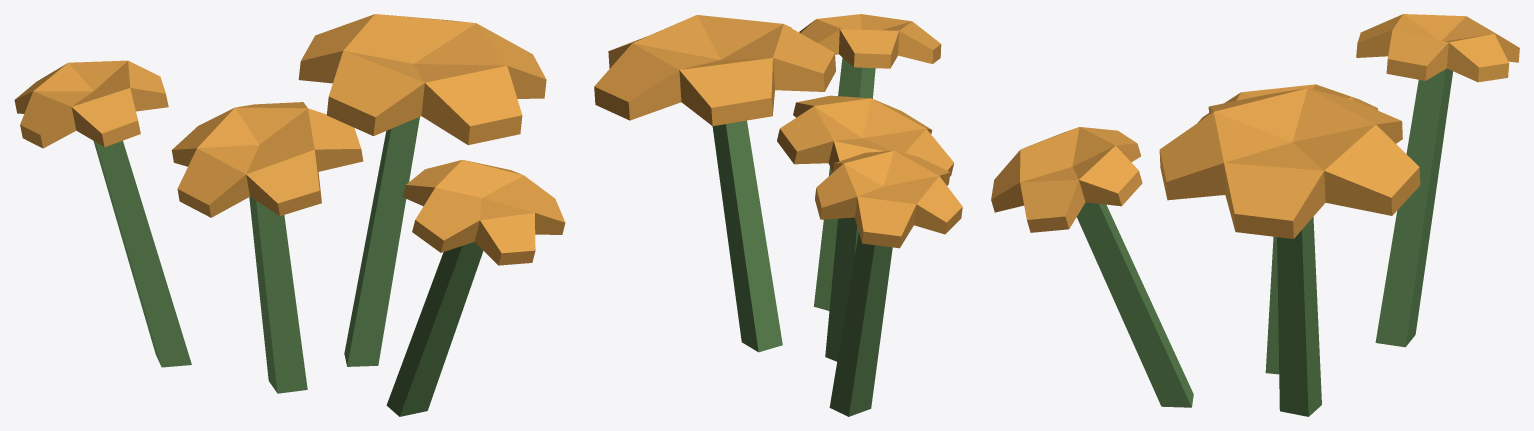
File: flower_2.fbx
3 views of the same model, side by side, from view 1: azimuth 30°, elevation 25°; view 2: azimuth 150°, elevation 25°; view 3: azimuth 270°, elevation 25° (orthographic). The views are drawn at different scales.
Visible parts, largest first — view 1: flower_002; view 2: flower_002; view 3: flower_002.
Boxes of the visible parts, left/top/right/bottom form: flower_002: left=14, top=14, right=565, bottom=416; flower_002: left=594, top=14, right=962, bottom=416; flower_002: left=991, top=14, right=1519, bottom=416.
Bounding box in the file's own units: 0.0792 × 0.0538 × 0.0824.
1 material, 1 textured.
